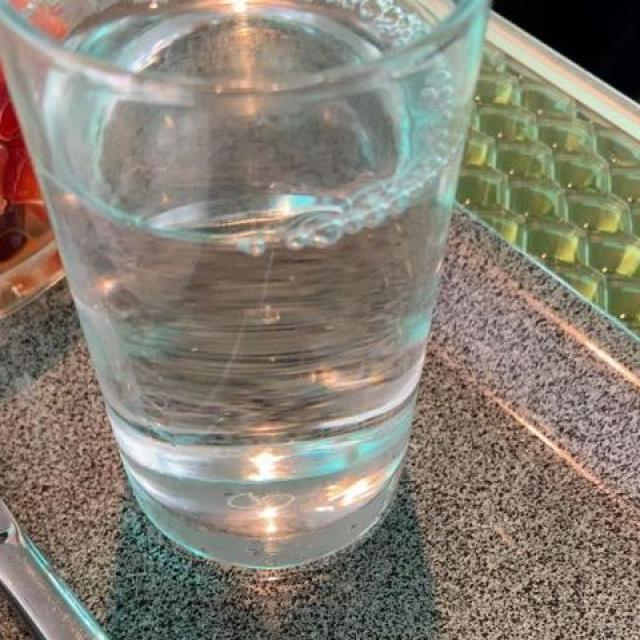water: (43, 73, 443, 542)
